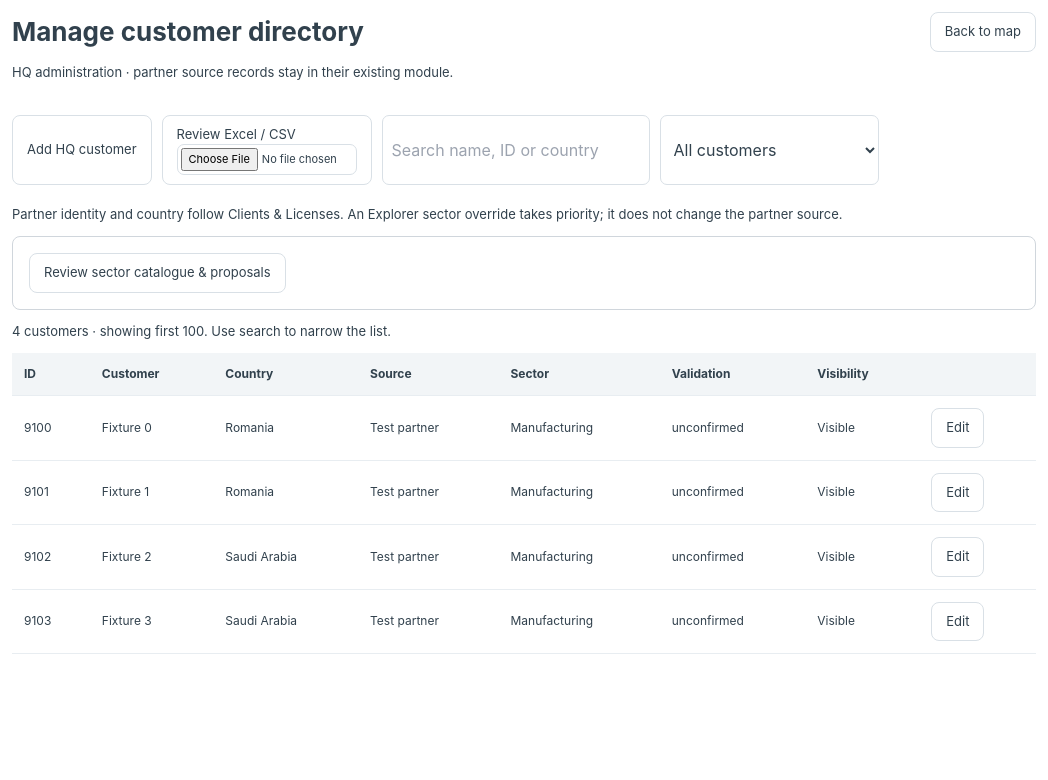
Scenario: Directory country presentation › finds both source variants by SA
Type "SA" into the field named "Search directory" at [516, 150], box [382, 114, 650, 184]
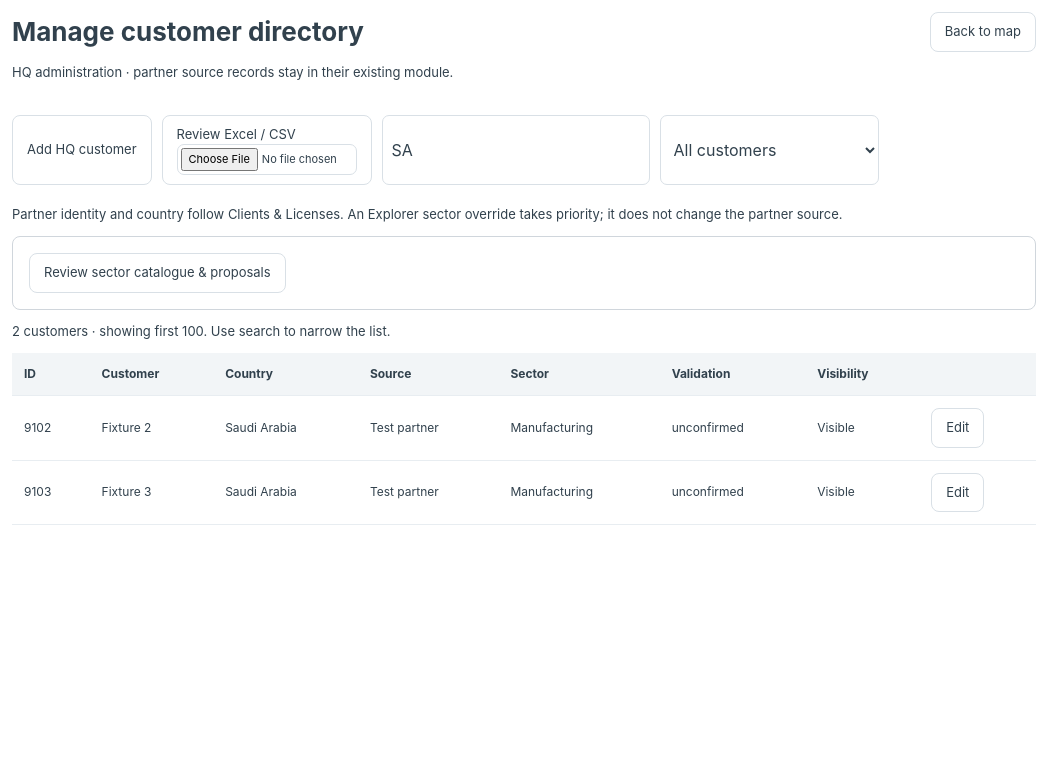
Expected: the number of rows is 3, [12, 353, 1036, 396]; [12, 396, 1036, 460]; [12, 460, 1036, 524]
Expected: the number of cells "Saudi Arabia" is 2, [213, 396, 358, 460]; [213, 460, 358, 524]
